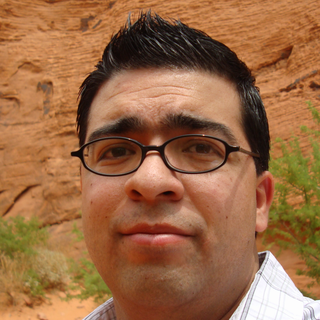eye: (96, 145, 136, 161), (180, 140, 216, 156)
